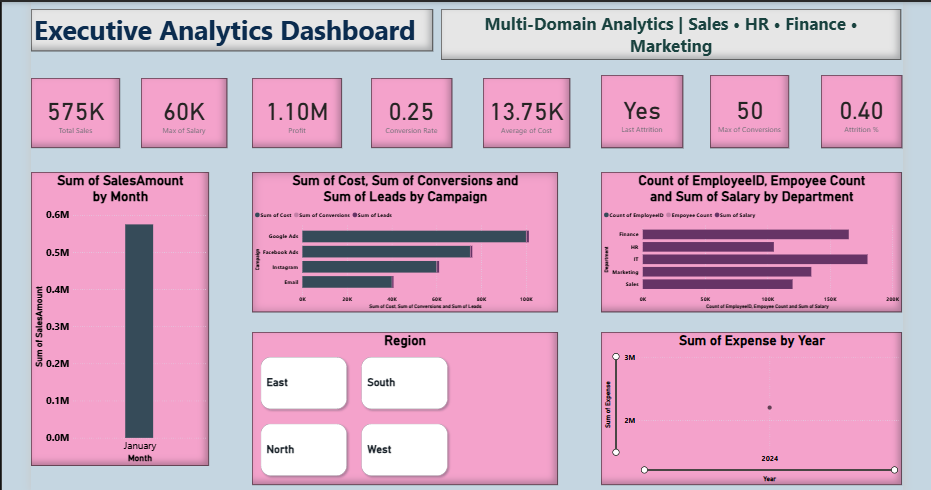

This screenshot's page, from the dashboard's own definition file:
{"tool":"powerbi","page":{"name":"Page 1","canvas":[1920,1080],"ordinal":0},"visuals":[{"type":"card","fields":{"Values":["sales_data-3.Total Sales"]},"box":[0,167.5,196.2,154.3],"z":0},{"type":"card","fields":{"Values":["Max(hr_data.Salary)"]},"box":[242.4,167.5,189.6,154.3],"z":1000},{"type":"card","fields":{"Values":["Avg(marketing_data.Cost)"]},"box":[996.2,167.5,191.8,154.3],"z":2000},{"type":"card","fields":{"Values":["finance_data-2.Profit"]},"box":[487.1,167.5,198.4,154.3],"z":3000},{"type":"card","fields":{"Values":["hr_data.Attrition %"]},"box":[1741.2,160.9,178.5,160.9],"z":4000},{"type":"card","fields":{"Values":["marketing_data.Conversion Rate"]},"box":[749.4,167.5,178.5,154.3],"z":5000},{"type":"clusteredColumnChart","fields":{"Category":["sales_data-3.OrderDate.Variation.Date Hierarchy.Month"],"Y":["Sum(sales_data-3.SalesAmount)"]},"box":[0,374.7,392.3,648],"z":6000},{"type":"barChart","fields":{"Category":["hr_data.Department"],"Y":["CountNonNull(hr_data.EmployeeID)","hr_data.Empoyee Count","Sum(hr_data.Salary)"]},"box":[1256.3,374.7,663.4,308.6],"z":7000},{"type":"card","fields":{"Values":["Max(hr_data.Attrition)"]},"box":[1256.3,160.9,180.7,160.9],"z":8000},{"type":"lineChart","fields":{"Category":["Date.Date.Variation.Date Hierarchy.Year","Date.Date.Variation.Date Hierarchy.Quarter","Date.Date.Variation.Date Hierarchy.Month","Date.Date.Variation.Date Hierarchy.Day"],"Y":["Sum(finance_data-2.Expense)"]},"box":[1256.3,727.3,663.4,337.2],"z":9000},{"type":"barChart","fields":{"Category":["marketing_data.Campaign"],"Y":["Sum(marketing_data.Cost)","Sum(marketing_data.Conversions)","Sum(marketing_data.Leads)"]},"box":[487.1,374.7,674.4,308.6],"z":10000},{"type":"card","fields":{"Values":["Max(marketing_data.Conversions)"]},"box":[1496.6,160.9,174.1,160.9],"z":11000},{"type":"advancedSlicerVisual","fields":{"Values":["sales_data-3.Region"]},"box":[487.1,727.3,674.4,337.2],"z":12000},{"type":"textbox","box":[0,16.3,886,93],"z":13000},{"type":"textbox","box":[904.7,16.3,1014,111.6],"z":14000}]}

Visuals, with their boxes on the page's 1920x1080 design canvas (x1, y1, x2, y2). These are canvas units, not pixel positions in the 931x490 screenshot, which may show the page scaled, cropped or inside an application window:
card - sales_data-3.Total Sales: <box>0,168,196,322</box>
card - Max(hr_data.Salary): <box>242,168,432,322</box>
card - Avg(marketing_data.Cost): <box>996,168,1188,322</box>
card - finance_data-2.Profit: <box>487,168,686,322</box>
card - hr_data.Attrition %: <box>1741,161,1920,322</box>
card - marketing_data.Conversion Rate: <box>749,168,928,322</box>
clusteredColumnChart - sales_data-3.OrderDate.Variation.Date Hierarchy.Month x Sum(sales_data-3.SalesAmount): <box>0,375,392,1023</box>
barChart - hr_data.Department x CountNonNull(hr_data.EmployeeID): <box>1256,375,1920,683</box>
card - Max(hr_data.Attrition): <box>1256,161,1437,322</box>
lineChart - Date.Date.Variation.Date Hierarchy.Year x Date.Date.Variation.Date Hierarchy.Quarter: <box>1256,727,1920,1064</box>
barChart - marketing_data.Campaign x Sum(marketing_data.Cost): <box>487,375,1162,683</box>
card - Max(marketing_data.Conversions): <box>1497,161,1671,322</box>
advancedSlicerVisual - sales_data-3.Region: <box>487,727,1162,1064</box>
textbox: <box>0,16,886,109</box>
textbox: <box>905,16,1919,128</box>
